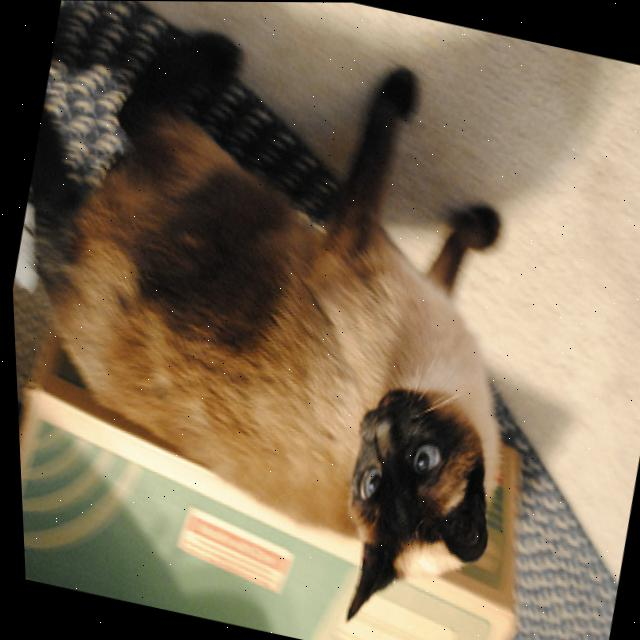Siamese: (0, 0, 584, 640)
